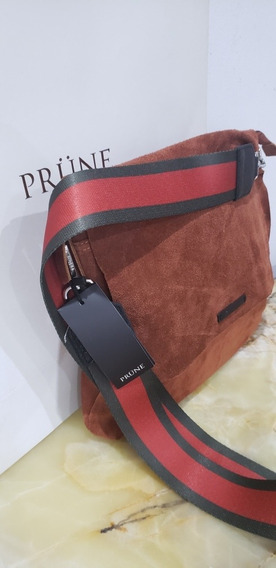cartera: (42, 128, 276, 442)
